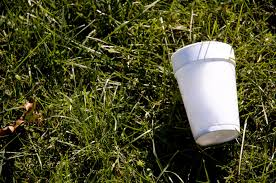cup: (167, 37, 251, 148)
